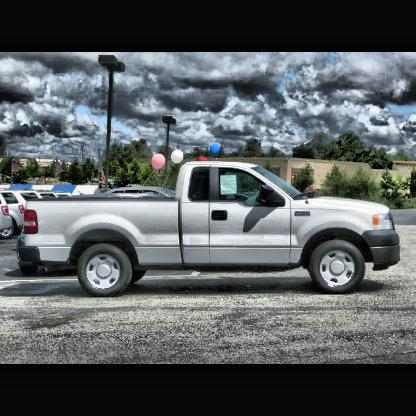Ford F-150 Regular Cab 2007: (21, 160, 402, 298)
